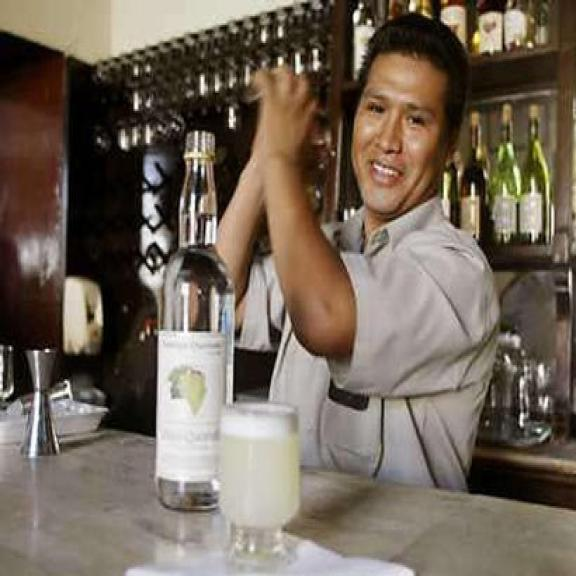face: (346, 47, 468, 216)
